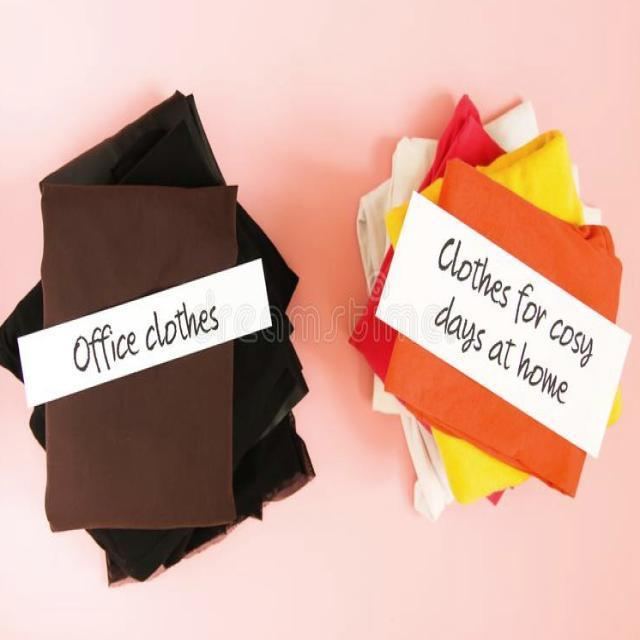clothes: (366, 122, 636, 512)
